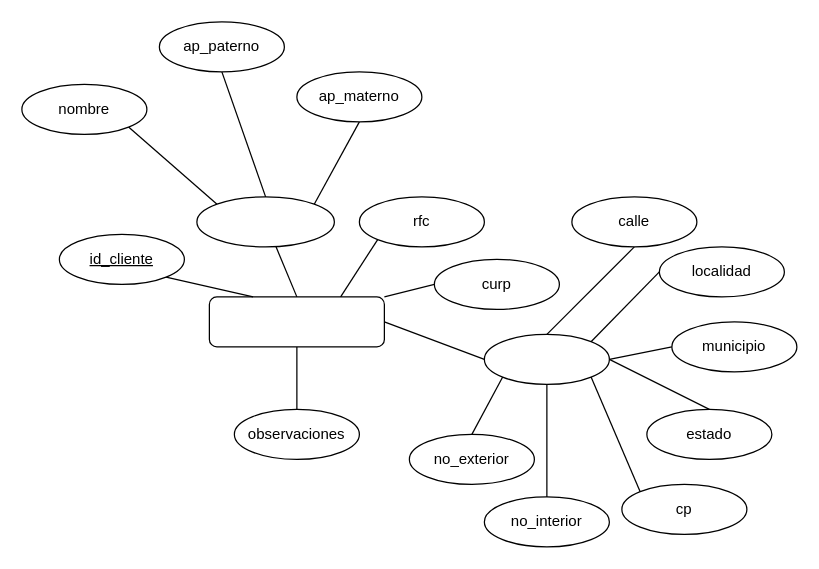
The diagram is 819 pixels wide and 569 high, and some of its shapes have lost their labels. The box of each missing label's shape, as (x1, y1, x2, y2) in pixels:
clientes: (208, 296, 384, 347)
direcccion: (483, 333, 609, 384)
nombre_completo: (196, 196, 334, 247)
